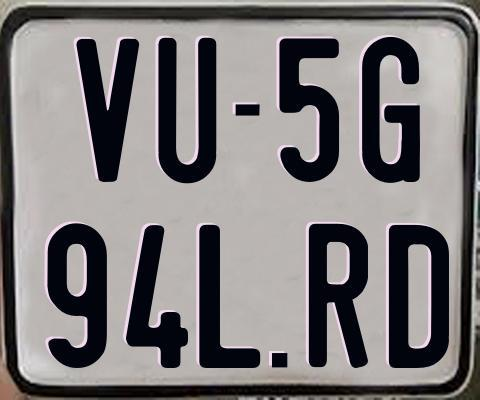4: (125, 225, 190, 374)
5: (279, 36, 339, 181)
9: (45, 221, 108, 368)
D: (387, 225, 453, 374)
G: (359, 36, 421, 183)
L: (198, 224, 261, 370)
R: (307, 222, 367, 372)
U: (156, 38, 216, 185)
V: (73, 37, 142, 186)
